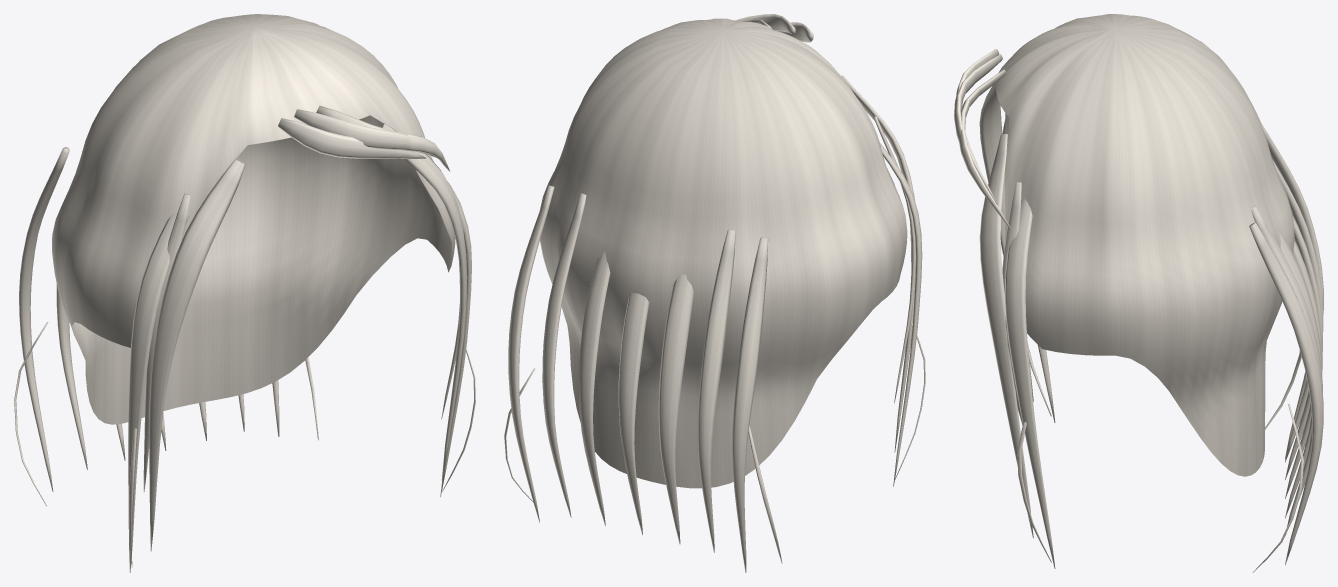
3 views of the same model, side by side, from view 1: azimuth 30°, elevation 25°; view 2: azimuth 150°, elevation 25°; view 3: azimuth 270°, elevation 25° (orthographic). The views are drawn at different scales.
Parts seen in each view (by area): view 1: Portrait hair p4; view 2: Portrait hair p4; view 3: Portrait hair p4.
Boxes of the visible parts, box(x1,y1,x2,y2) form: Portrait hair p4: box(14, 14, 475, 572); Portrait hair p4: box(504, 14, 925, 572); Portrait hair p4: box(954, 14, 1323, 572).
Size of the model in its own units: 1.11 by 1.49 by 1.03.
1 material, 1 textured.
